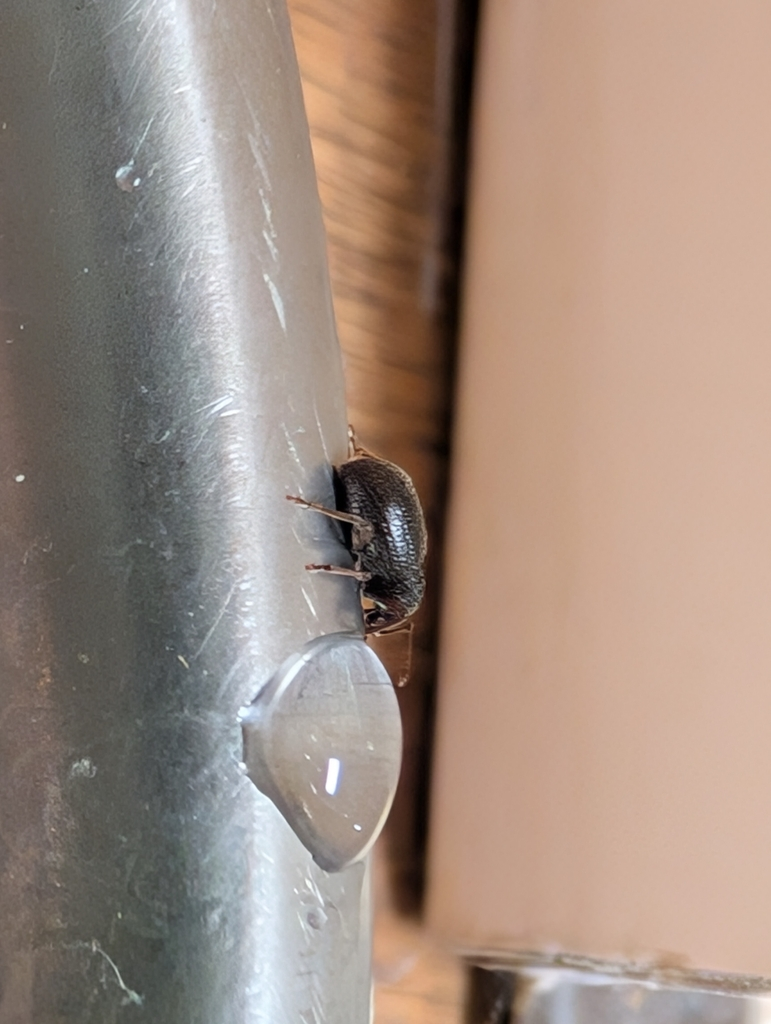weevils: (229, 352, 516, 704)
